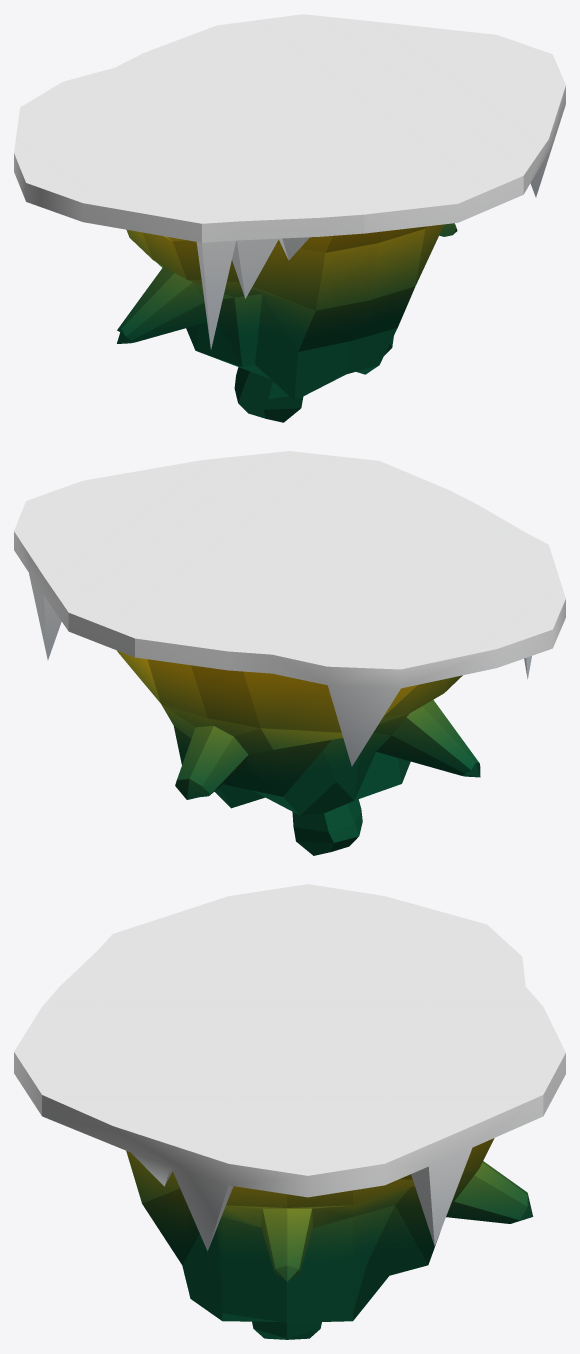
Rendered from MOD_PlatformV4_3.fbx.
3 views of the same model, one above another, from view 1: azimuth 30°, elevation 25°; view 2: azimuth 150°, elevation 25°; view 3: azimuth 270°, elevation 25° (orthographic). The views are drawn at different scales.
Parts seen in each view (by area): view 1: MOD_ICE_Platform3, MOD_Platform3; view 2: MOD_ICE_Platform3, MOD_Platform3; view 3: MOD_ICE_Platform3, MOD_Platform3.
Part boxes in pixels (x1,y1,x2,y2): MOD_ICE_Platform3: [14, 14, 565, 349]; MOD_Platform3: [117, 223, 457, 422]; MOD_ICE_Platform3: [14, 451, 565, 766]; MOD_Platform3: [117, 650, 480, 855]; MOD_ICE_Platform3: [14, 884, 565, 1250]; MOD_Platform3: [126, 1138, 533, 1339].
Size of the model in its own units: 2.55 by 1.31 by 2.03.
Materials: 2 (2 with a texture image).
